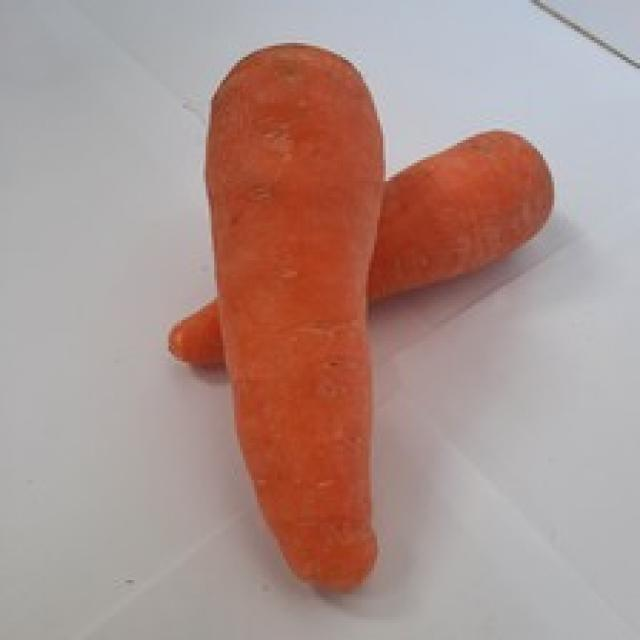carrot: (198, 37, 388, 600), (164, 124, 558, 380)
